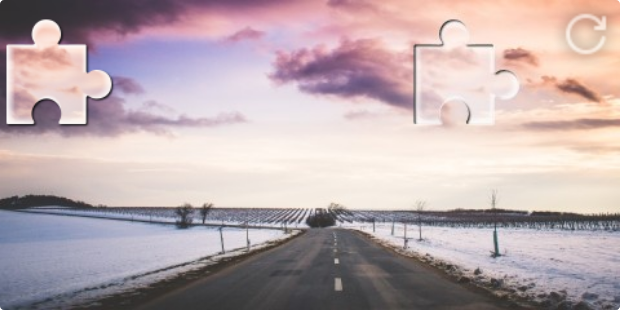target: (414, 20, 519, 128)
